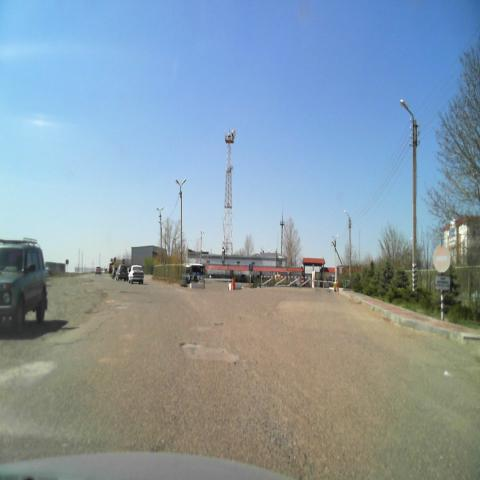3_1: (432, 243, 451, 273)
